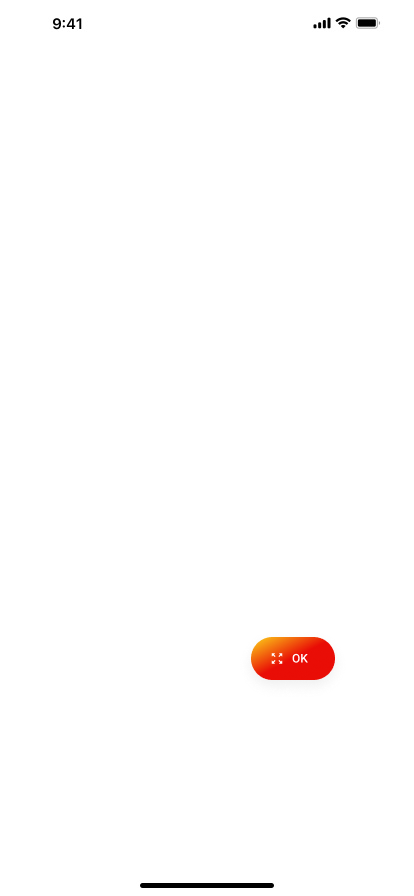Buttons: (236, 628, 350, 701)
Home Indicator: (0, 862, 414, 896)
Status Bar: (0, 0, 414, 44)
